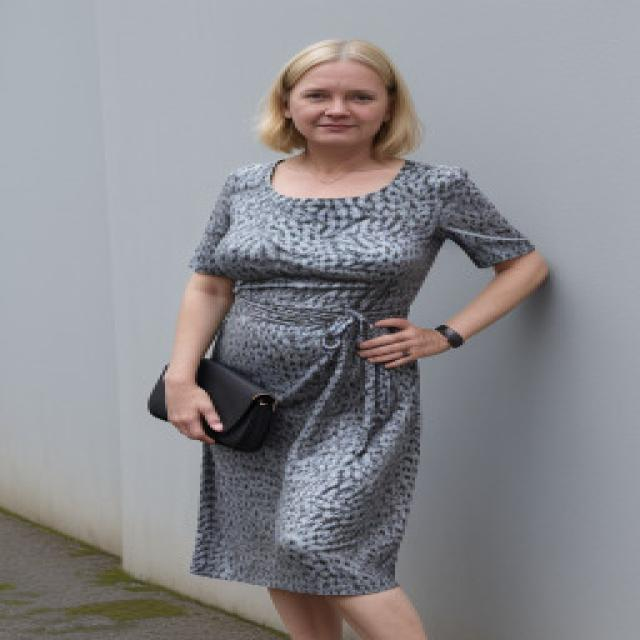Ai human 2: (143, 27, 558, 640)
